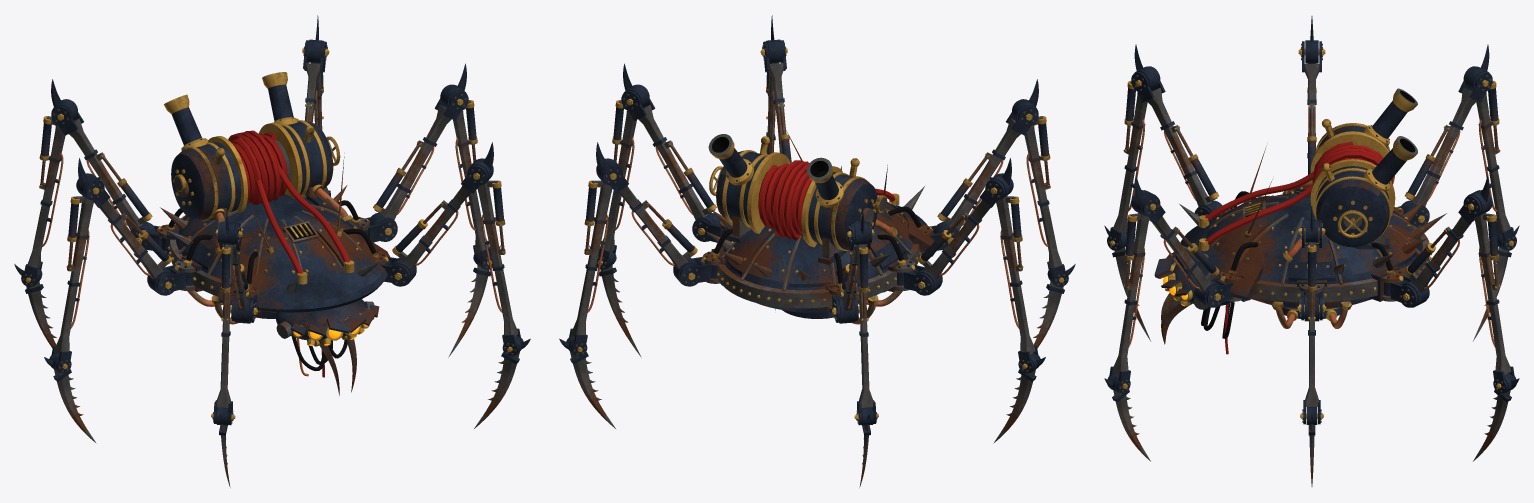
File: spider.glb
The picture shows the model from 3 angles, left to right: view 1: azimuth 30°, elevation 25°; view 2: azimuth 150°, elevation 25°; view 3: azimuth 270°, elevation 25°; orthographic projection.
Parts seen in each view (by area): view 1: Hull, Boiler, Head, LegR2_TibiaMesh, LegL1_TibiaMesh, LegL2_FemurMesh, LegR3_TibiaMesh, LegR3_FemurMesh, LegL1_FemurMesh, LegL2_TibiaMesh, LegR2_FemurMesh, LegR1_TibiaMesh (+11 smaller); view 2: Hull, Boiler, LegL3_TibiaMesh, LegR2_TibiaMesh, LegL2_FemurMesh, LegR1_TibiaMesh, LegR1_FemurMesh, LegL3_FemurMesh, LegL2_TibiaMesh, LegR2_FemurMesh, LegR3_TibiaMesh, LegR3_FemurMesh (+10 smaller); view 3: Hull, Boiler, LegL3_TibiaMesh, LegL1_TibiaMesh, LegR3_FemurMesh, LegR1_FemurMesh, LegR1_TibiaMesh, LegR3_TibiaMesh, LegL3_FemurMesh, LegL1_FemurMesh, Head, LegL2_TibiaMesh (+12 smaller).
Part boxes in pixels (<box>): Hull: <box>157,153,389,324</box>; Boiler: <box>171,120,340,221</box>; Head: <box>276,299,379,395</box>; LegR2_TibiaMesh: <box>49,158,102,373</box>; LegL1_TibiaMesh: <box>467,142,523,356</box>; LegL2_FemurMesh: <box>369,84,468,241</box>; LegR3_TibiaMesh: <box>21,79,77,286</box>; LegR3_FemurMesh: <box>51,99,156,243</box>; LegL1_FemurMesh: <box>391,158,493,285</box>; LegL2_TibiaMesh: <box>441,63,493,269</box>; LegR2_FemurMesh: <box>76,173,173,295</box>; LegR1_TibiaMesh: <box>212,208,242,425</box>; Hull: <box>702,128,934,324</box>; Boiler: <box>709,136,887,250</box>; LegL3_TibiaMesh: <box>566,142,622,356</box>; LegR2_TibiaMesh: <box>987,158,1040,373</box>; LegL2_FemurMesh: <box>621,84,720,241</box>; LegR1_TibiaMesh: <box>1012,79,1068,286</box>; LegR1_FemurMesh: <box>933,99,1038,243</box>; LegL3_FemurMesh: <box>596,158,698,285</box>; LegL2_TibiaMesh: <box>596,63,648,269</box>; LegR2_FemurMesh: <box>916,173,1013,295</box>; LegR3_TibiaMesh: <box>847,208,877,425</box>; LegR3_FemurMesh: <box>832,222,872,323</box>; Hull: <box>1176,146,1446,328</box>; Boiler: <box>1310,119,1395,246</box>; LegL3_TibiaMesh: <box>1466,175,1516,393</box>; LegL1_TibiaMesh: <box>1107,175,1157,393</box>; LegR3_FemurMesh: <box>1401,66,1492,222</box>; LegR1_FemurMesh: <box>1131,66,1220,211</box>; LegR1_TibiaMesh: <box>1107,44,1158,250</box>; LegR3_TibiaMesh: <box>1465,44,1516,250</box>; LegL3_FemurMesh: <box>1402,190,1492,307</box>; LegL1_FemurMesh: <box>1131,190,1221,307</box>; Head: <box>1154,253,1234,354</box>; LegL2_TibiaMesh: <box>1298,206,1325,424</box>.
Bounding box in the file's own units: 3.91 × 2.38 × 3.05.
8 materials, 4 textured.
